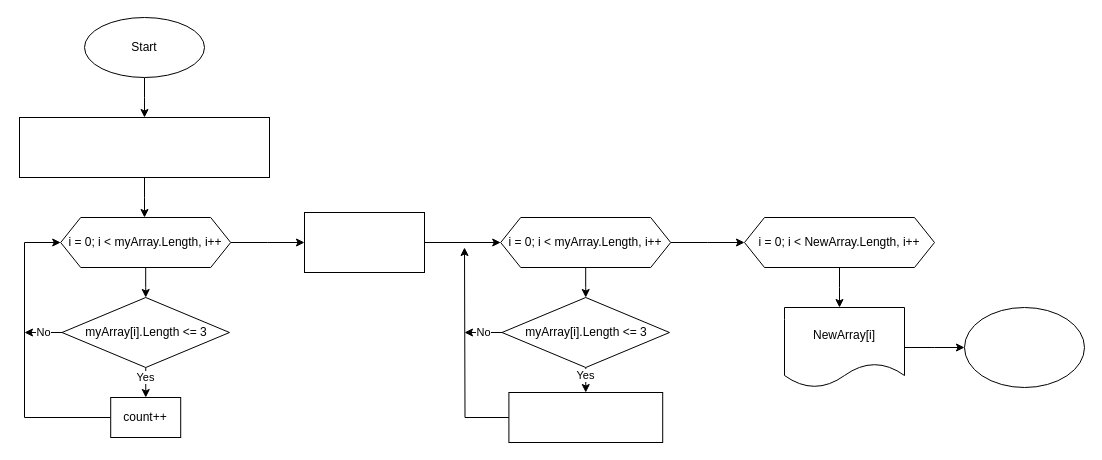
This 1102x460 diagram has some shape labels left out. Each missing label, with the centre of its shape:
END: (1024,347)
NewArray[n] = myArray[i]; n++: (585,417)
string[] array = ["1284", "the", "77", "print", "A"] count = 0 n = 0: (144,147)
string[] NewArray = new string[count]: (364,242)
